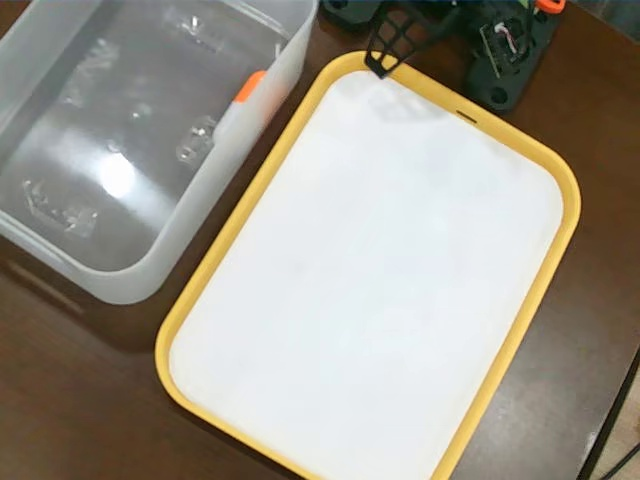pill: (213, 68, 264, 142)
